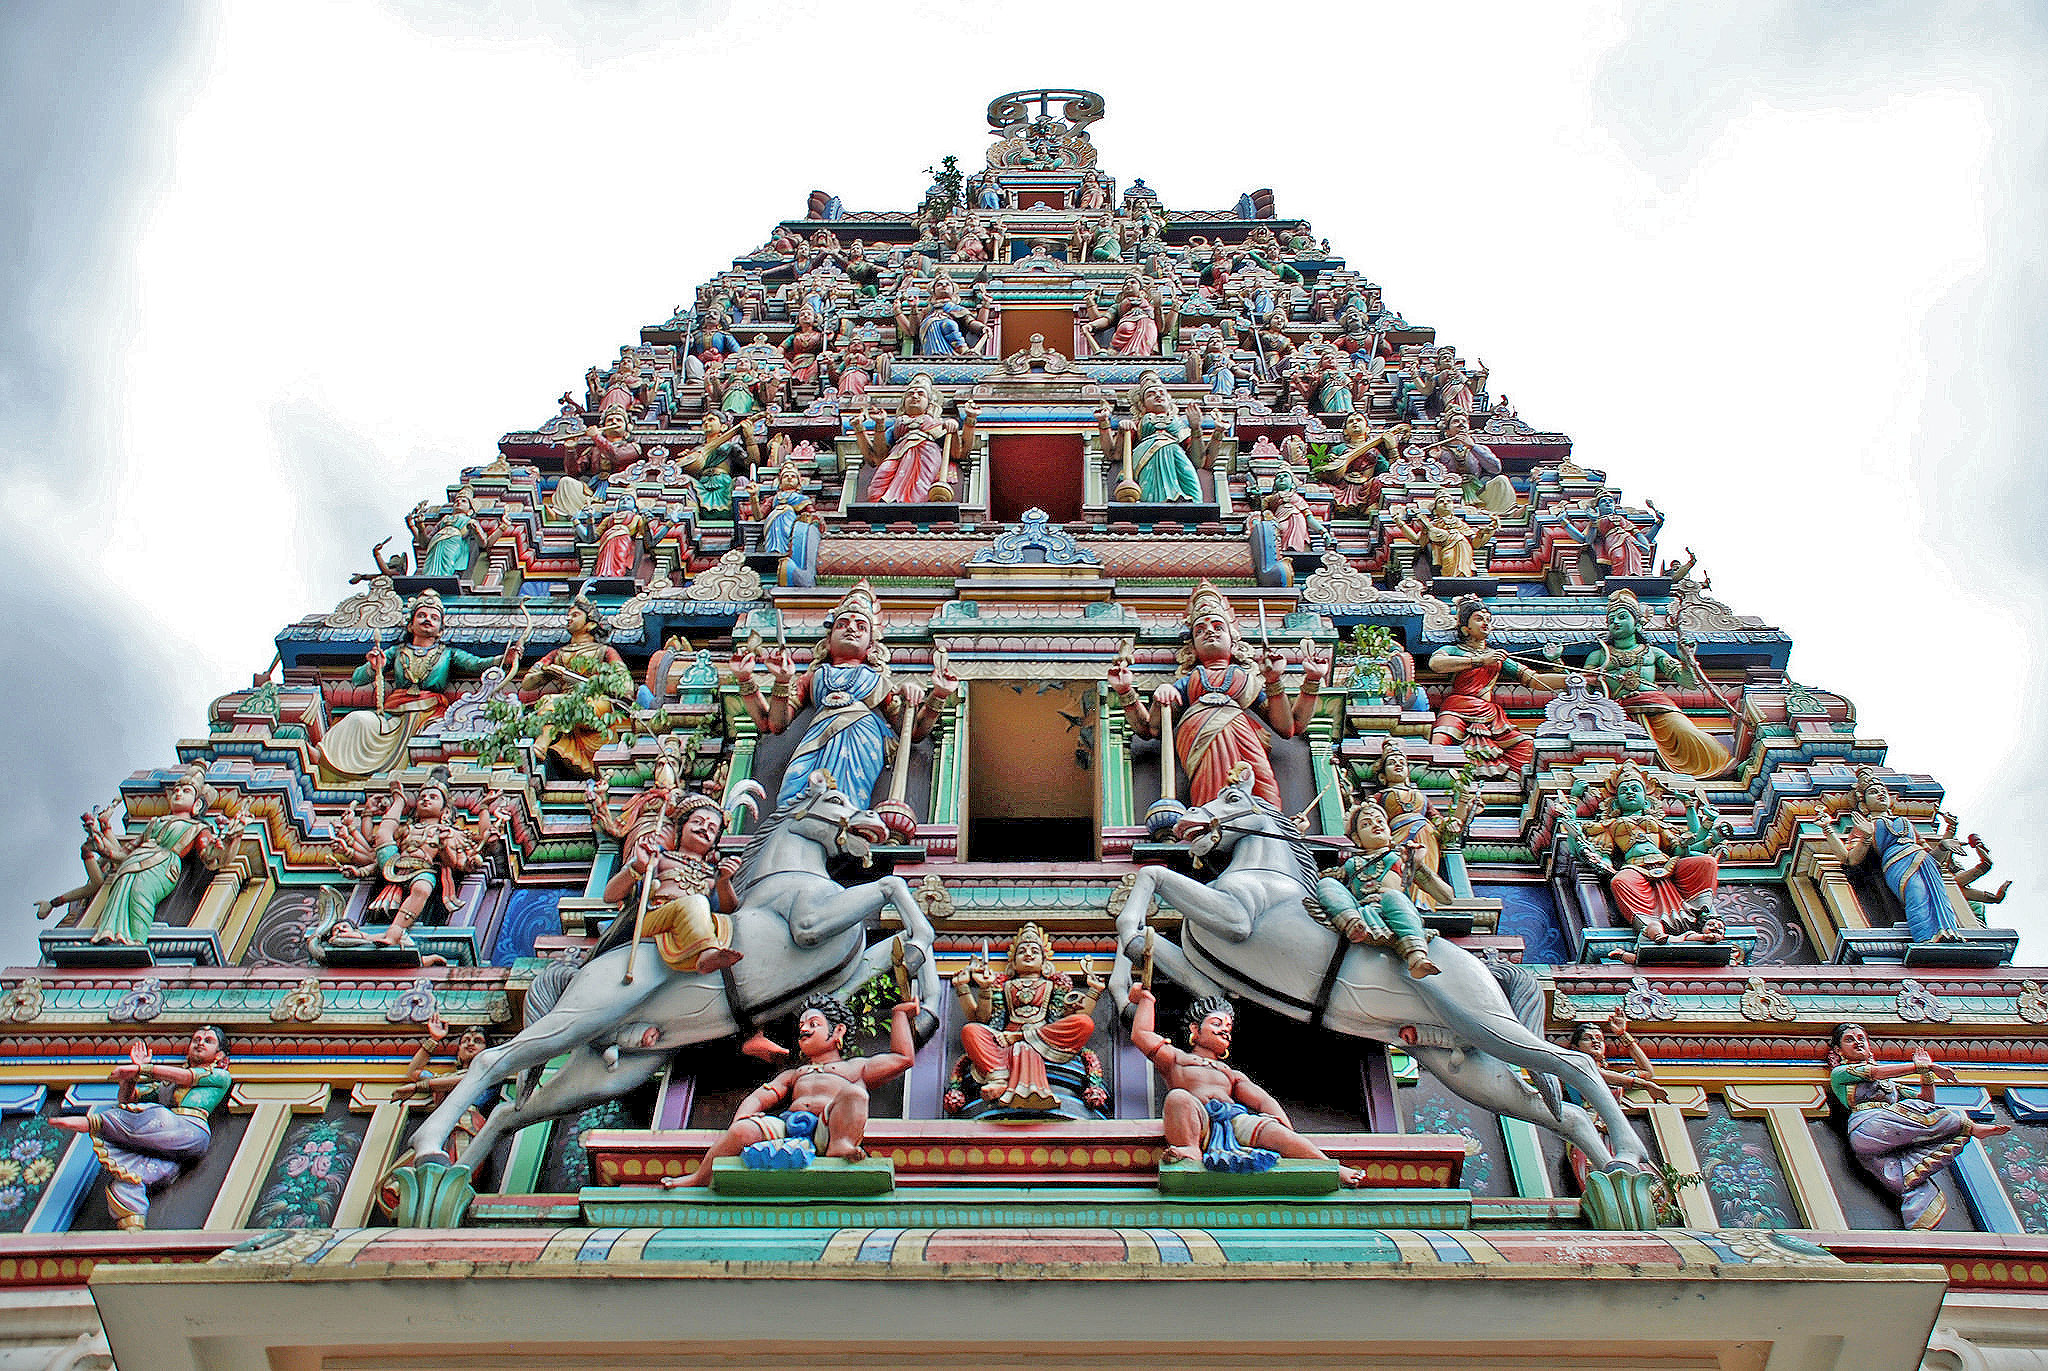Hindu Temple: (35, 81, 2046, 1330)
